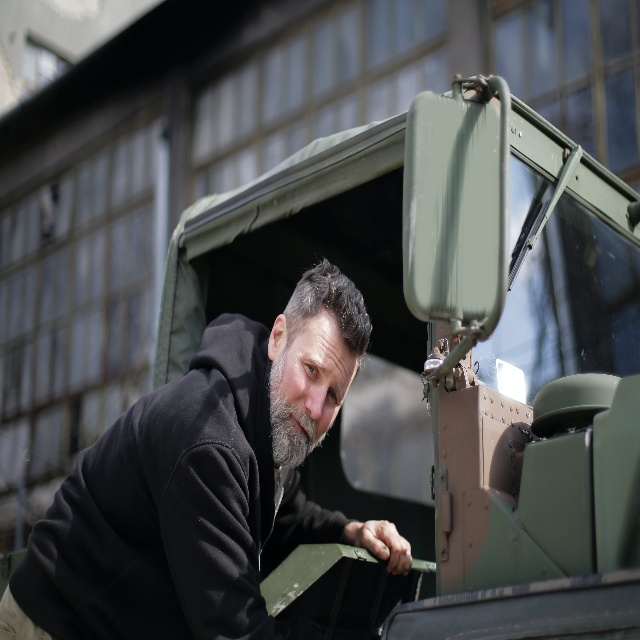Sin_guantes: (359, 520, 408, 573)
